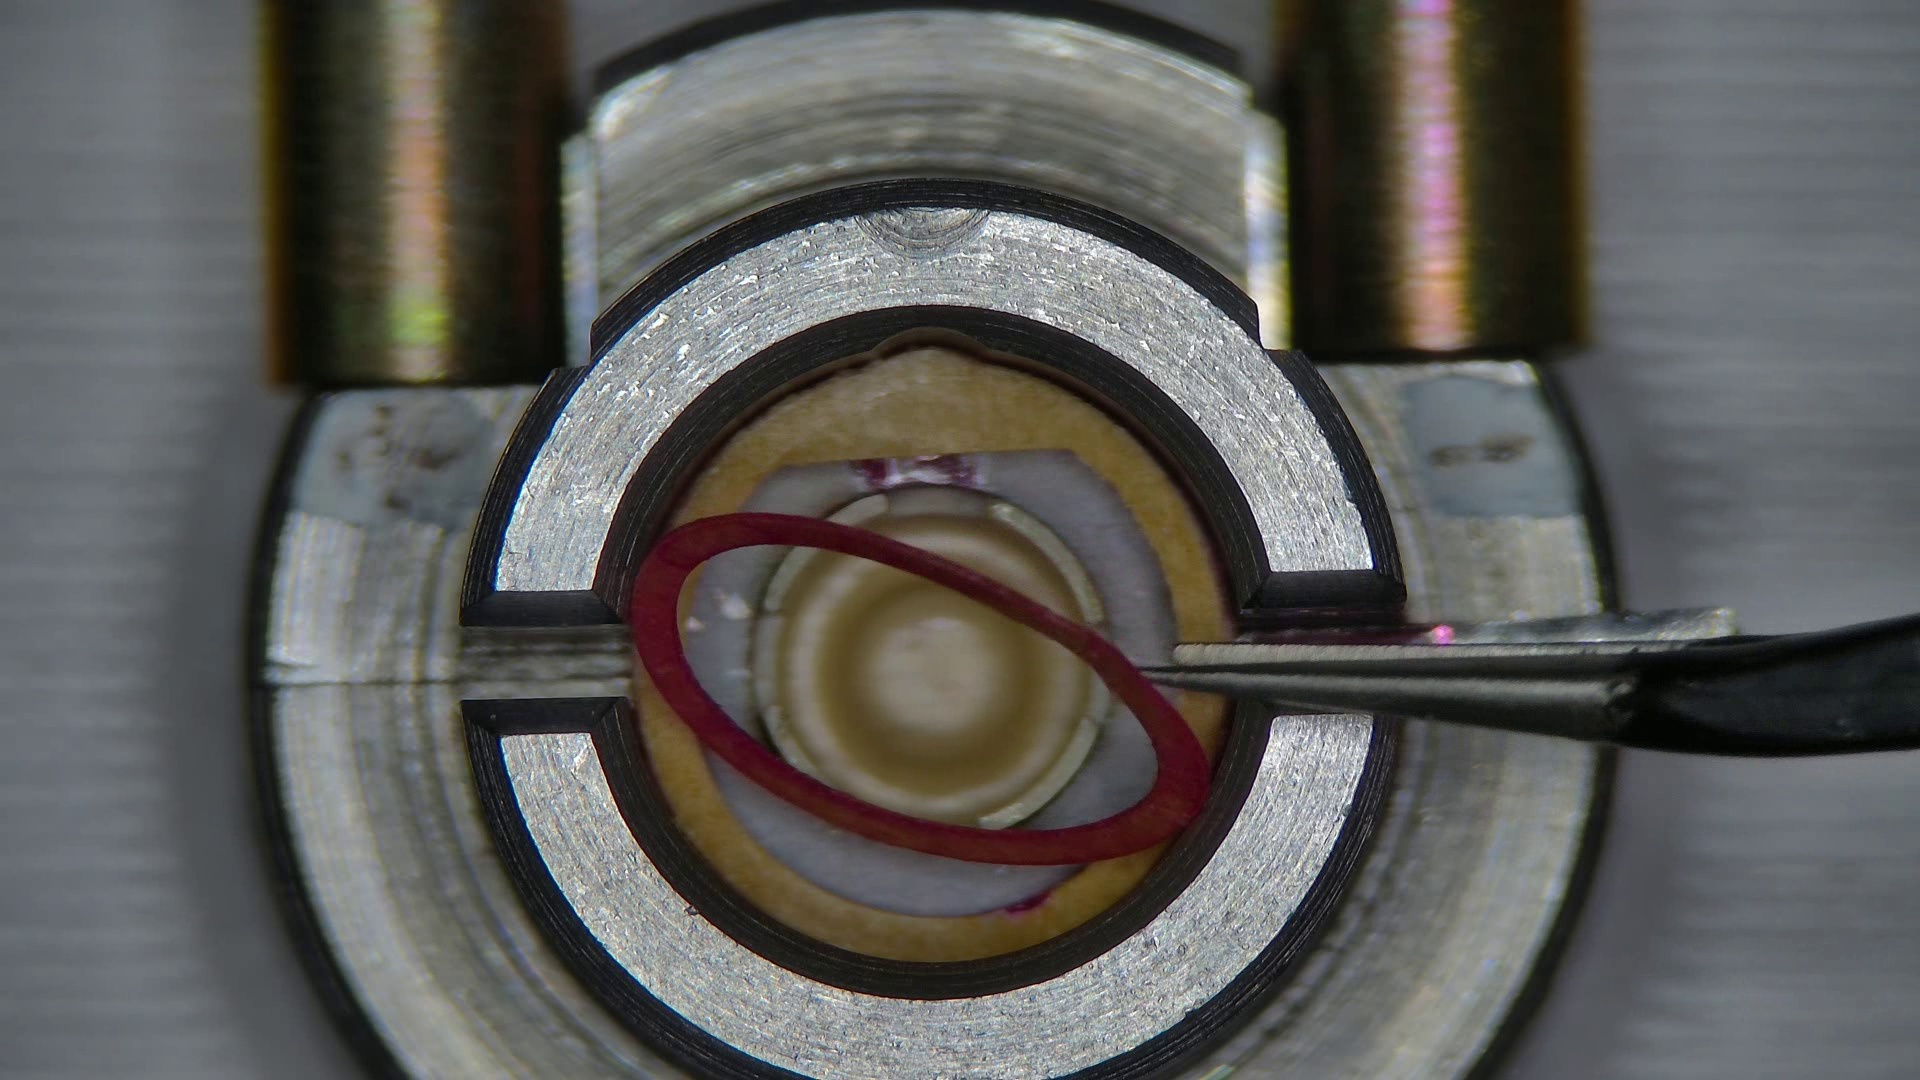GreyOring: (628, 512, 1205, 866)
YellowOring: (752, 450, 1174, 665), (717, 767, 1062, 916), (684, 541, 807, 765), (1033, 702, 1156, 828)
redOring: (684, 349, 1226, 650), (644, 708, 1130, 963), (1185, 687, 1221, 732)
